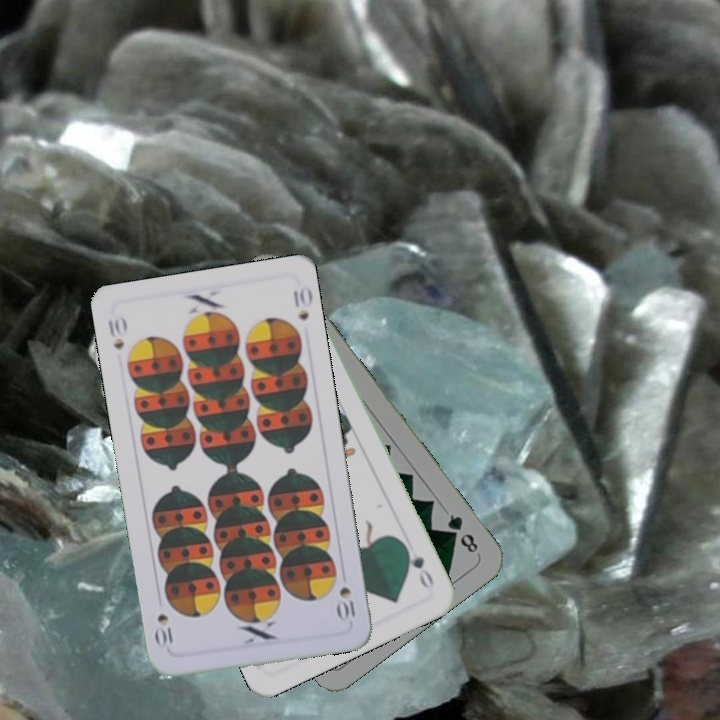G8: (443, 509, 481, 556)
GO: (399, 540, 437, 593)
S10: (333, 583, 358, 624), (104, 312, 128, 352)
